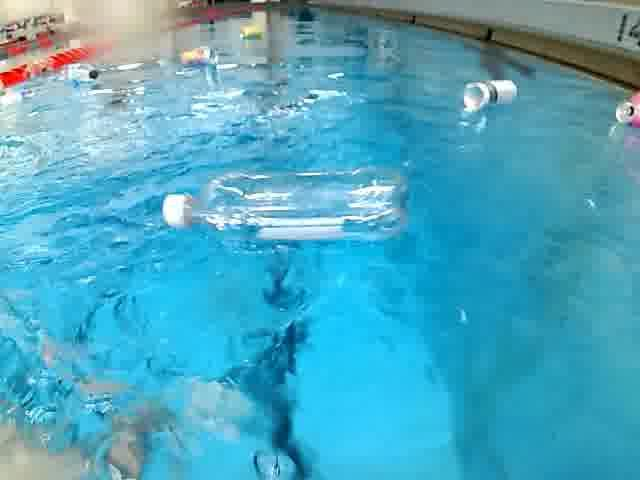Bottle: (136, 159, 414, 253), (52, 54, 104, 90), (24, 56, 52, 86)
Can: (450, 76, 522, 120), (605, 84, 640, 146), (170, 44, 220, 68), (235, 22, 271, 44)
